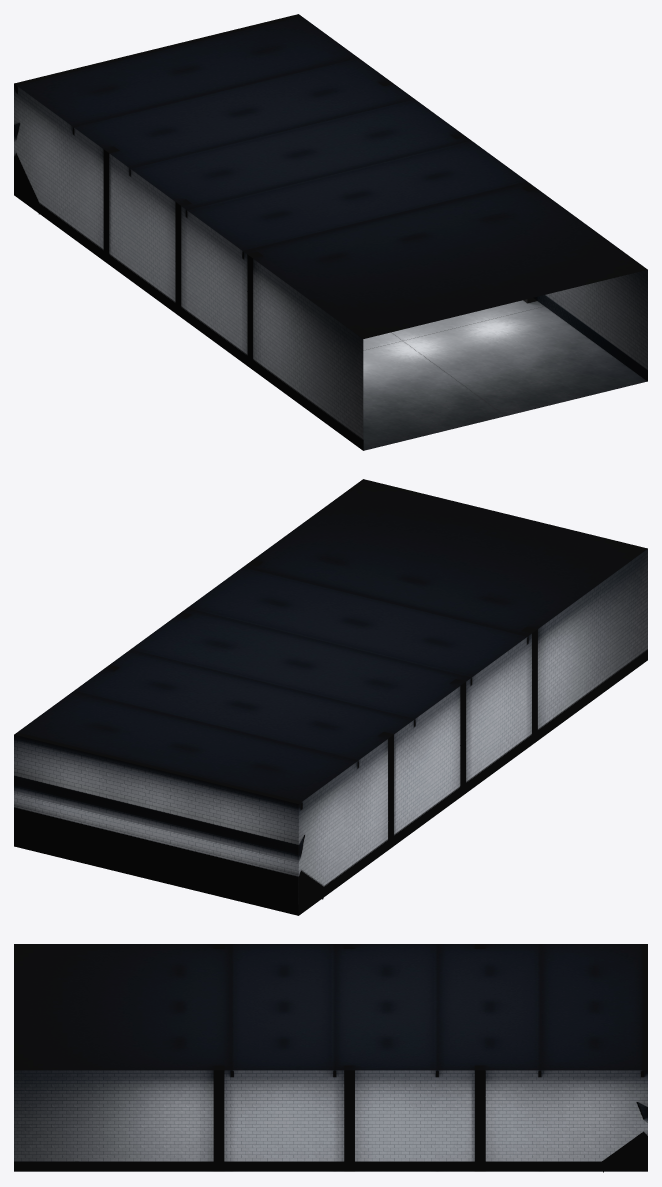
Rendered from env_indoor_02.glb.
3 views of the same model, one above another, from view 1: azimuth 30°, elevation 25°; view 2: azimuth 150°, elevation 25°; view 3: azimuth 270°, elevation 25° (orthographic). The views are drawn at different scales.
Visible parts, largest first — view 1: ceiling, wall_l, floor, wall_r, details; view 2: ceiling, wall_l, wall_back; view 3: ceiling, wall_r.
Part boxes in pixels (left/top/right/bottom): ceiling: left=14, top=14, right=647, bottom=338; wall_l: left=14, top=84, right=363, bottom=450; floor: left=363, top=298, right=647, bottom=450; wall_r: left=545, top=270, right=647, bottom=380; details: left=39, top=214, right=647, bottom=450; ceiling: left=14, top=479, right=647, bottom=803; wall_l: left=298, top=549, right=647, bottom=915; wall_back: left=14, top=735, right=298, bottom=915; ceiling: left=14, top=944, right=647, bottom=1070; wall_r: left=14, top=1070, right=647, bottom=1171.
Size of the model in its own units: 16 by 6.08 by 34.
7 materials, 6 textured.
